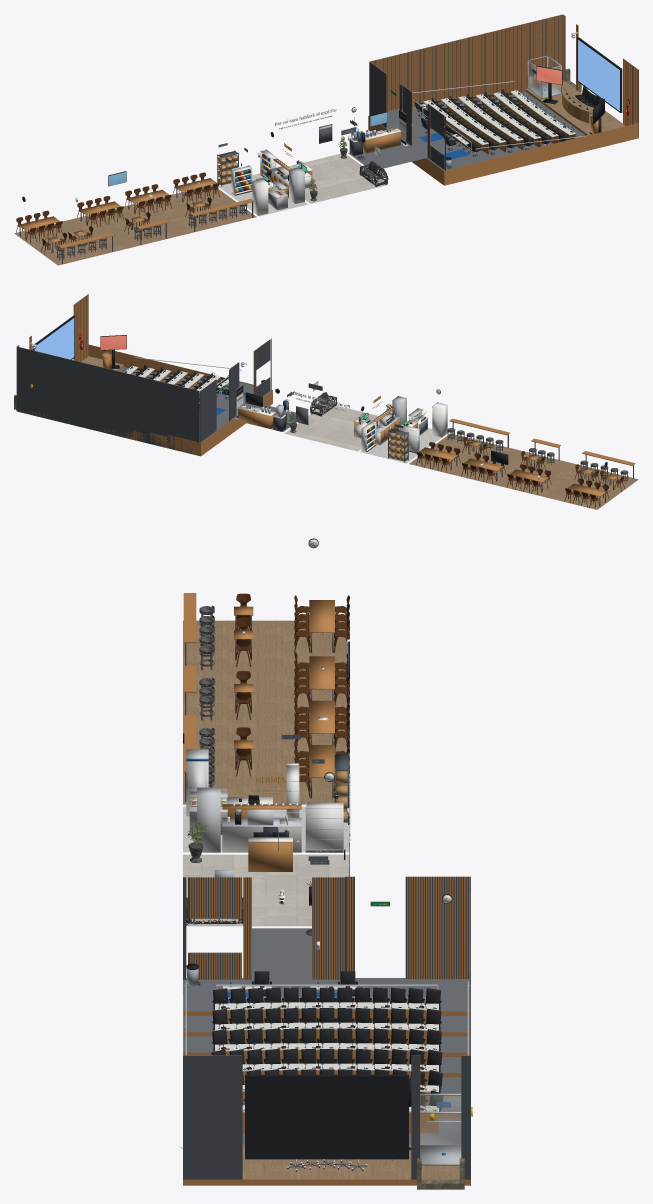
File: 10_n1_publico.glb
3 views of the same model, one above another, from view 1: azimuth 30°, elevation 25°; view 2: azimuth 150°, elevation 25°; view 3: azimuth 270°, elevation 25° (orthographic). The views are drawn at different scales.
Parts seen in each view (by area): view 1: lambrín de listones, piso · Sala de café, piso escalonado del auditorio, mesas corridas del auditorio, piso · Lobby, recepción y vigilancia, pantalla LED de 5 m, piso · Antesala de la sala de usos múltiples, preparacion_cafe, barra alta junto al vidrio, mostrador_coffee, plataforma_elevadora, anaquel_snacks (+8 smaller); view 2: lambrín de listones, piso · Sala de café, piso escalonado del auditorio, piso · Lobby, recepción y vigilancia, pantalla LED de 5 m, preparacion_cafe, anaquel_snacks (×2), barra alta junto al vidrio, mostrador_coffee, mesas corridas del auditorio, piso · Tienda y cafetería, anaquel_rotulado (+3 smaller); view 3: lambrín de listones, piso · Sala de café, piso escalonado del auditorio, pantalla LED de 5 m, mesas corridas del auditorio, piso · Lobby, recepción y vigilancia, preparacion_cafe, plataforma_elevadora, piso · Antesala de la sala de usos múltiples, mesa_comunal_240 (×3), anaquel_snacks, barra alta junto al vidrio (+5 smaller).
Part boxes in pixels (x1,y1,x2,y2): lambrín de listones: (369,14,638,180); piso · Sala de café: (14,185,256,265); piso escalonado del auditorio: (368,80,625,185); mesas corridas del auditorio: (423,90,575,154); piso · Lobby, recepción y vigilancia: (288,153,387,203); pantalla LED de 5 m: (577,37,622,112); piso · Antesala de la sala de usos múltiples: (348,143,426,170); preparacion_cafe: (268,158,304,203); barra alta junto al vidrio: (58,198,254,263); mostrador_coffee: (363,127,401,153); plataforma_elevadora: (527,55,561,98); anaquel_snacks: (231,165,252,195); lambrín de listones: (16,294,271,454); piso · Sala de café: (409,433,638,509); piso escalonado del auditorio: (17,356,272,456); piso · Lobby, recepción y vigilancia: (284,404,379,451); pantalla LED de 5 m: (32,315,74,359); preparacion_cafe: (372,396,406,444); anaquel_snacks (×2): (361,421,419,453); barra alta junto al vidrio: (449,418,635,478); mostrador_coffee: (237,404,275,428); mesas corridas del auditorio: (124,366,220,396); piso · Tienda y cafetería: (360,428,441,463); anaquel_rotulado: (388,428,408,462); lambrín de listones: (183,876,470,1185); piso · Sala de café: (183,620,349,804); piso escalonado del auditorio: (183,978,470,1185); pantalla LED de 5 m: (245,1074,408,1159); mesas corridas del auditorio: (215,1002,438,1133); piso · Lobby, recepción y vigilancia: (183,854,349,926); preparacion_cafe: (197,787,301,852); plataforma_elevadora: (420,1093,472,1165); piso · Antesala de la sala de usos múltiples: (252,928,311,978); mesa_comunal_240 (×3): (309,600,334,744); anaquel_snacks: (305,801,343,852); barra alta junto al vidrio: (183,593,196,801).
Size of the model in its own units: 40.3 by 4.5 by 9.2.
Materials: 68 (13 with a texture image).
